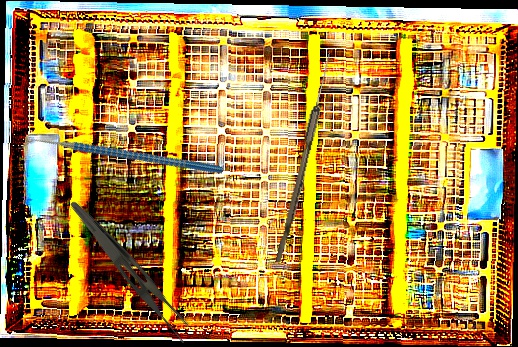Chopper: (17, 78, 225, 239)
Dressing Forceps: (54, 198, 203, 347)
Surgical Spoon: (275, 52, 334, 264)
